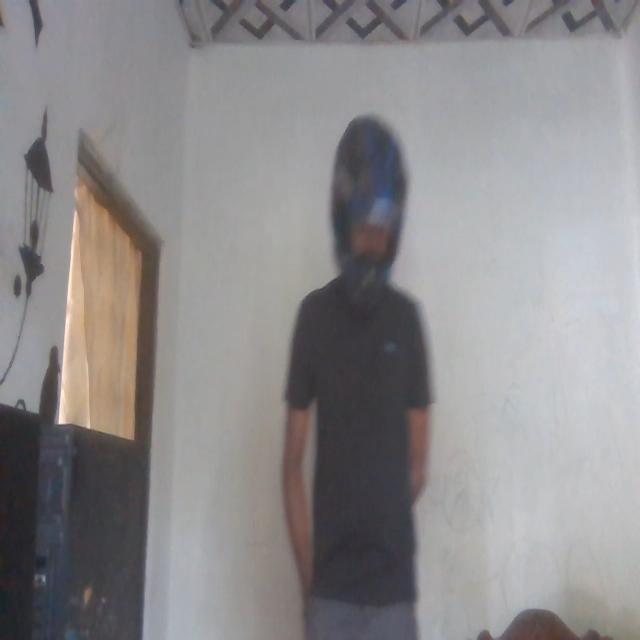Helmet_Wearer: (316, 108, 412, 314)
Person: (286, 199, 436, 640)
